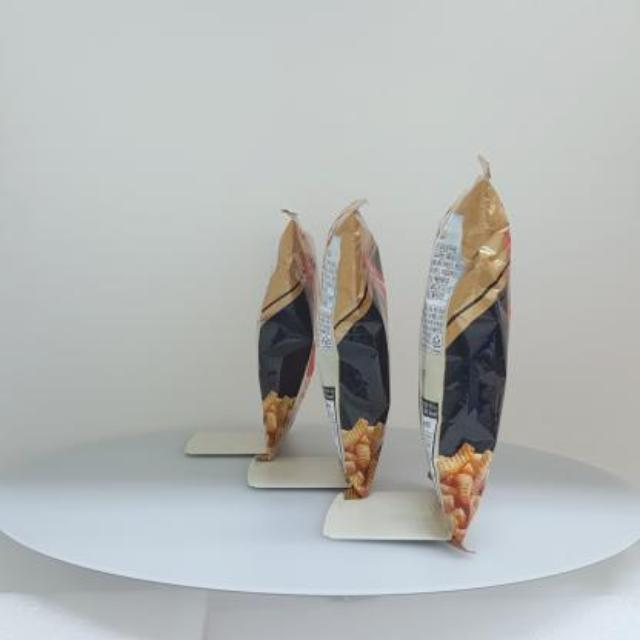snack_bag: (226, 135, 532, 565)
